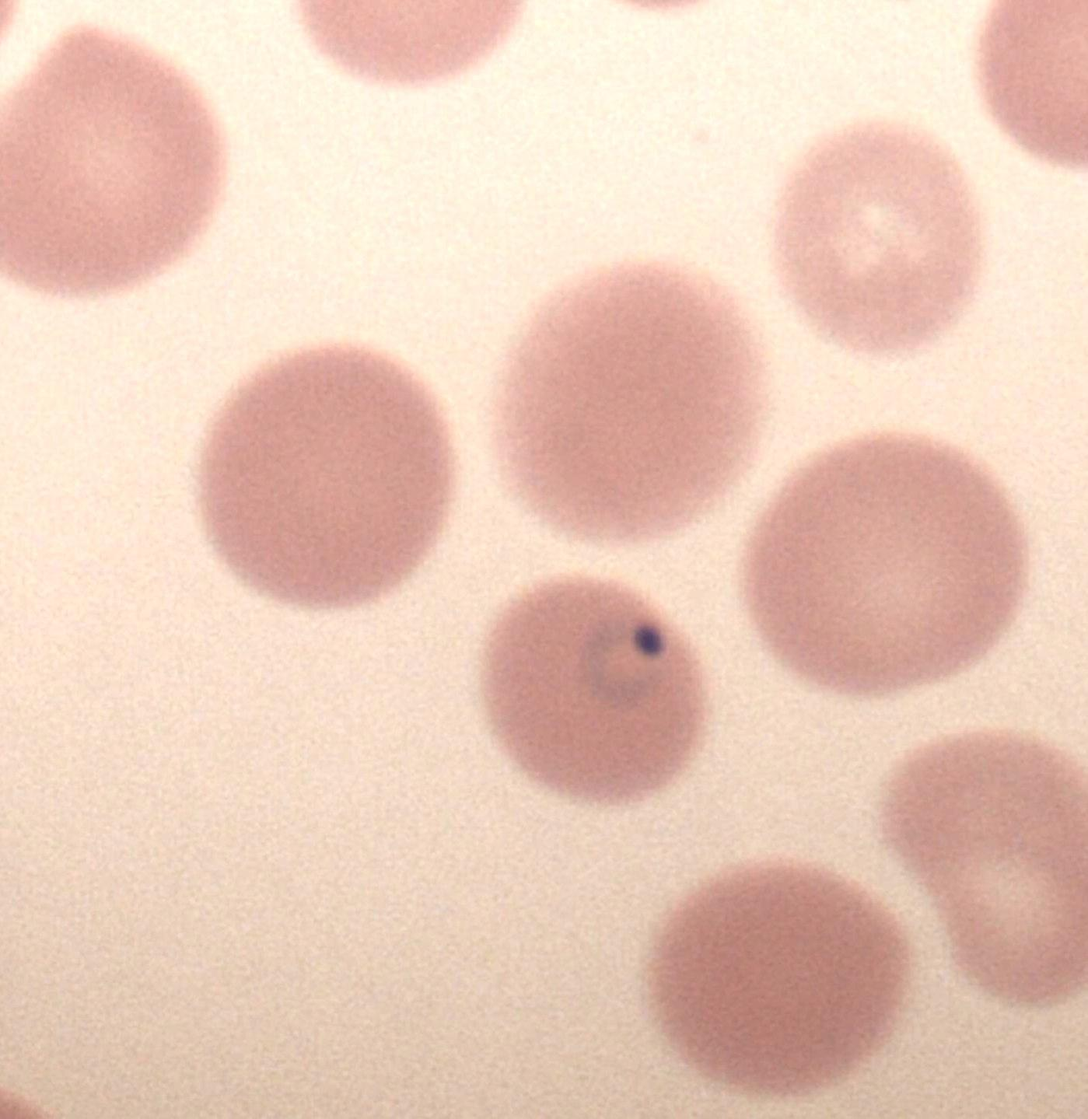Infected: (482, 576, 703, 803)
Uninfected: (493, 255, 779, 542), (741, 426, 1018, 696), (194, 340, 456, 604), (0, 19, 233, 295), (653, 861, 914, 1099), (773, 125, 987, 359)
